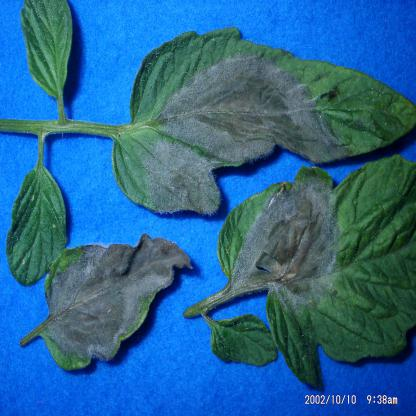Tomato leaf late blight: (112, 27, 416, 233), (203, 167, 416, 396), (26, 223, 197, 399)
